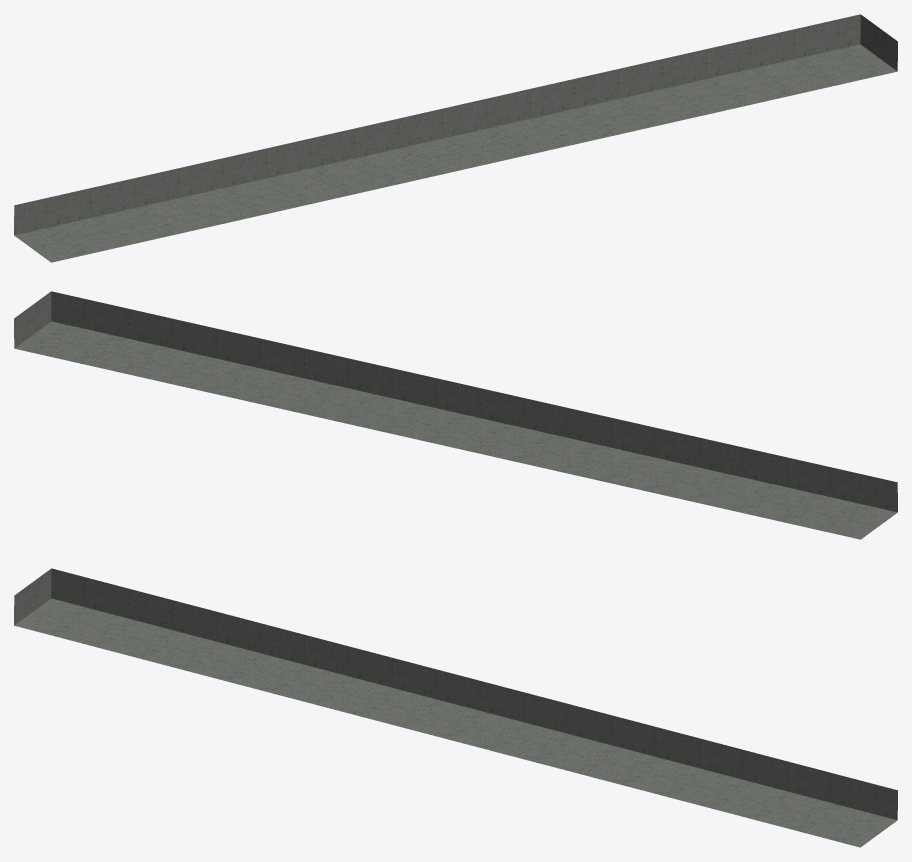
3 renders of one model, top to bottom at view 1: azimuth 30°, elevation 25°; view 2: azimuth 150°, elevation 25°; view 3: azimuth 330°, elevation 25°, orthographic.
Parts seen in each view (by area): view 1: 0_0_1_2_2; view 2: 0_0_1_2_2; view 3: 0_0_1_2_2.
Part boxes in pixels (box(x1,y1,x2,y2)): 0_0_1_2_2: box(14, 14, 897, 262); 0_0_1_2_2: box(14, 291, 897, 539); 0_0_1_2_2: box(14, 568, 897, 847).
Size of the model in its own units: 5.9 by 0.303 by 0.45.
Materials: 1 (1 with a texture image).
